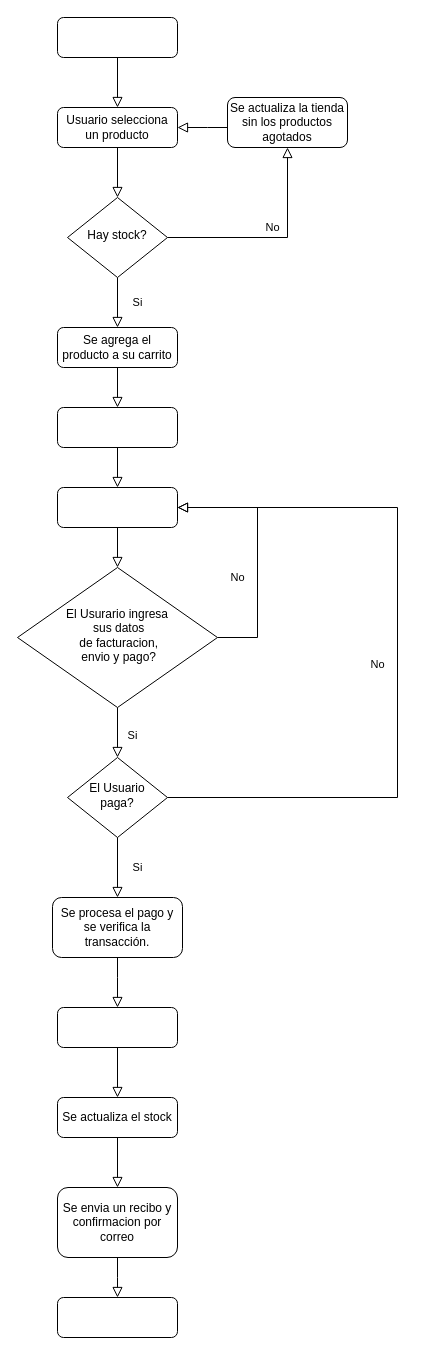
This 425x1355 diagram has some shape labels left out. The shapes that lost their labels are listed below. From the top down, each one's box as (x1, y1, x2, y2) in pixels, then its label:
(56, 16, 178, 58): Usuario navega por la tienda
(56, 406, 178, 448): El usuario entra a su carrito
(56, 486, 178, 528): El usuario entra al checkout
(56, 1006, 178, 1048): Se genera una orden de compra
(56, 1296, 178, 1338): Se envia el producto
